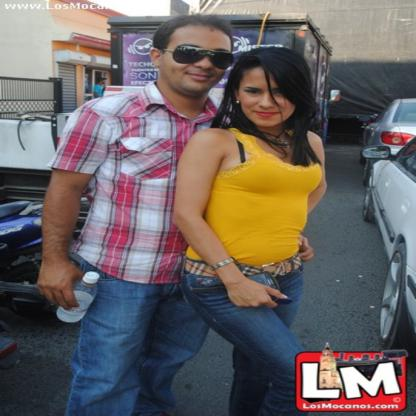Car: (359, 135, 415, 349), (352, 96, 416, 174)
